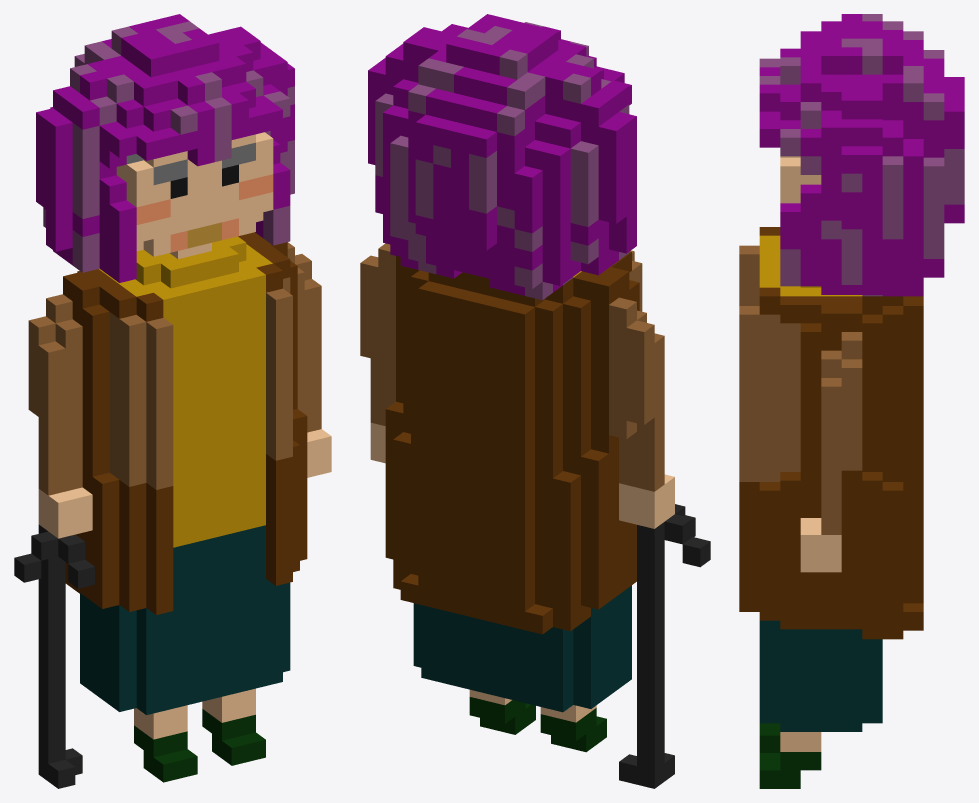
The model's file is Granny-7.obj.
3 renders of one model, left to right at view 1: azimuth 30°, elevation 25°; view 2: azimuth 150°, elevation 25°; view 3: azimuth 270°, elevation 25°, orthographic. The views are drawn at different scales.
Size of the model in its own units: 1.8 by 3.9 by 1.1.
Materials: 1 (1 with a texture image).
